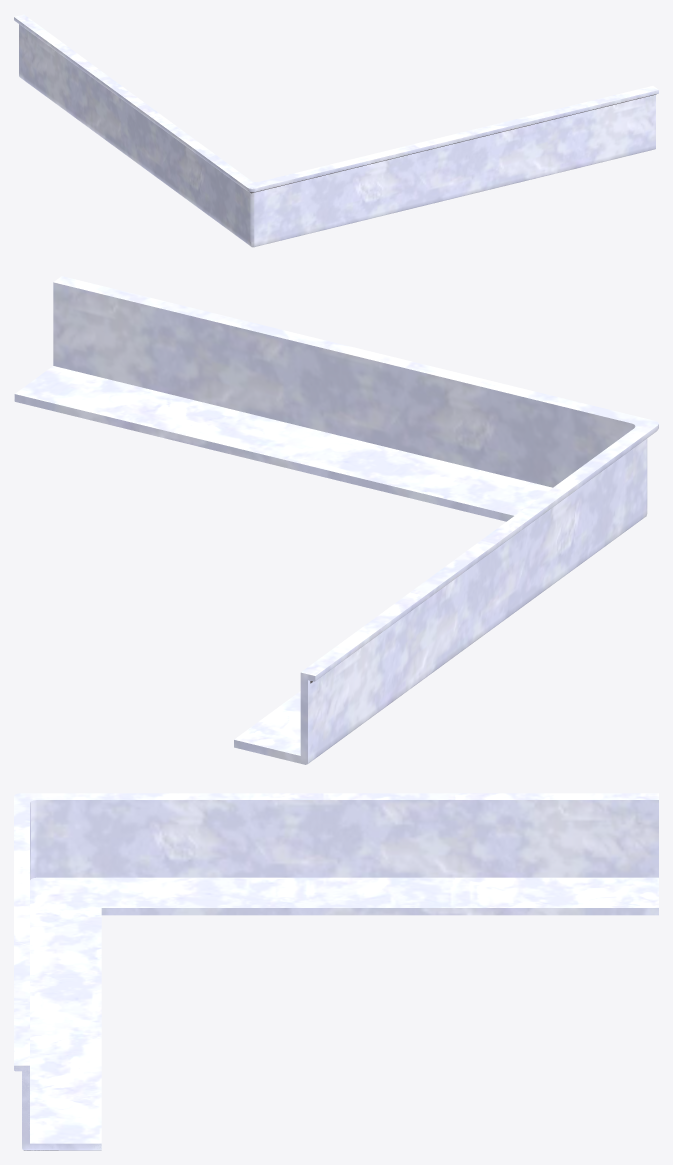
3 views of the same model, one above another, from view 1: azimuth 30°, elevation 25°; view 2: azimuth 150°, elevation 25°; view 3: azimuth 270°, elevation 25° (orthographic). The views are drawn at different scales.
Visible parts, largest first — view 1: RoofEdge.002; view 2: RoofEdge.002; view 3: RoofEdge.002.
Boxes of the visible parts, left/top/right/bottom form: RoofEdge.002: left=14, top=14, right=658, bottom=247; RoofEdge.002: left=14, top=276, right=658, bottom=764; RoofEdge.002: left=14, top=793, right=658, bottom=1150.
Size of what is drawn, in the model's own units: 8.11 by 1.18 by 8.1.
Materials: 1 (1 with a texture image).
